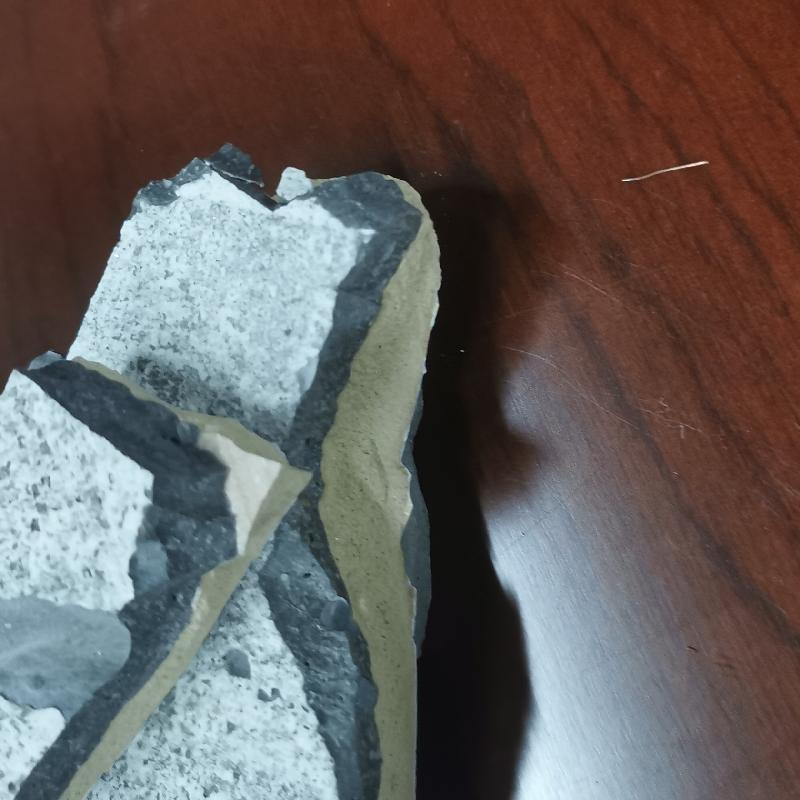tile: (1, 140, 451, 800)
